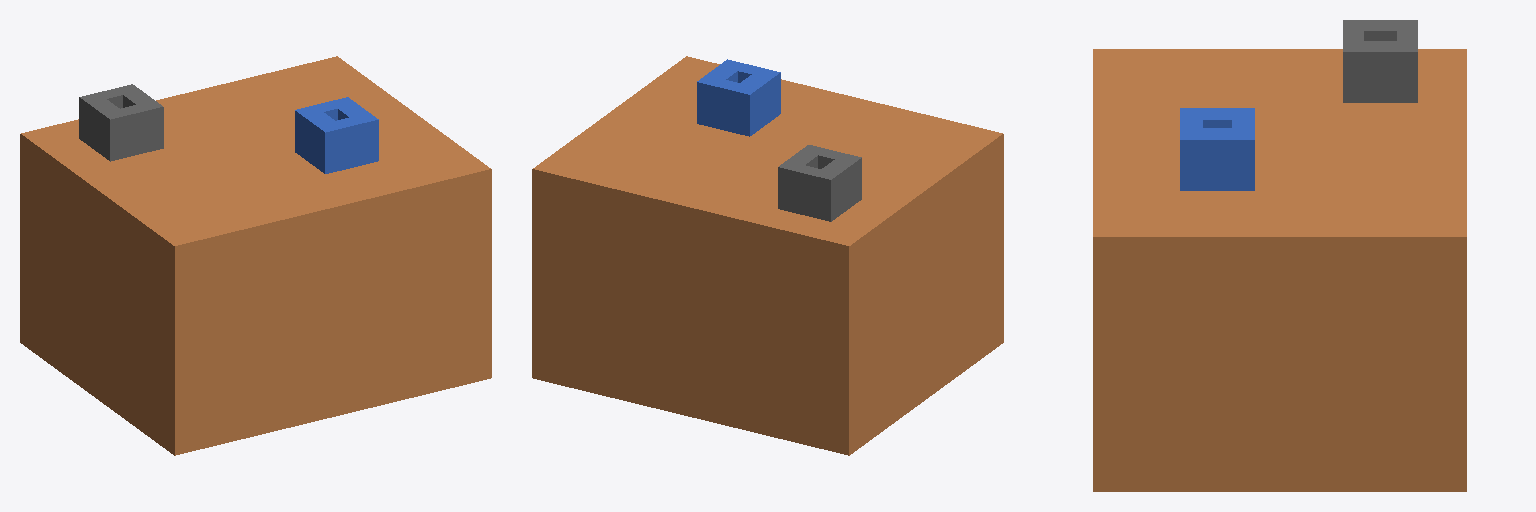
The robot description file, URDF, robot "peg_in_hole_fixtured_scene_0007_peg0007_tol02":
<?xml version="1.0"?>
<robot name="peg_in_hole_fixtured_scene_0007_peg0007_tol02">
  <material name="wood"><color rgba="0.82 0.56 0.35 1.0"/></material>
  <material name="start_fix"><color rgba="0.30 0.50 0.85 1.0"/></material>
  <material name="goal_fix"><color rgba="0.4706 0.4706 0.4706 1.0"/></material>
  <link name="box">
    <visual>
      <origin xyz="0.000000 0.000000 0.000000" rpy="0 0 0"/>
      <geometry><box size="0.475000 0.400000 0.300000"/></geometry>
      <material name="wood"/>
    </visual>
    <collision>
      <origin xyz="0.000000 0.000000 0.000000" rpy="0 0 0"/>
      <geometry><box size="0.475000 0.400000 0.300000"/></geometry>
    </collision>
    <visual>
      <origin xyz="0.082396 -0.066690 0.155000" rpy="0 0 0"/>
      <geometry><box size="0.080000 0.080000 0.010000"/></geometry>
      <material name="start_fix"/>
    </visual>
    <collision>
      <origin xyz="0.082396 -0.066690 0.155000" rpy="0 0 0"/>
      <geometry><box size="0.080000 0.080000 0.010000"/></geometry>
    </collision>
    <visual>
      <origin xyz="0.107646 -0.066690 0.185000" rpy="0 0 0"/>
      <geometry><box size="0.029500 0.080000 0.050000"/></geometry>
      <material name="start_fix"/>
    </visual>
    <collision>
      <origin xyz="0.107646 -0.066690 0.185000" rpy="0 0 0"/>
      <geometry><box size="0.029500 0.080000 0.050000"/></geometry>
    </collision>
    <visual>
      <origin xyz="0.057146 -0.066690 0.185000" rpy="0 0 0"/>
      <geometry><box size="0.029500 0.080000 0.050000"/></geometry>
      <material name="start_fix"/>
    </visual>
    <collision>
      <origin xyz="0.057146 -0.066690 0.185000" rpy="0 0 0"/>
      <geometry><box size="0.029500 0.080000 0.050000"/></geometry>
    </collision>
    <visual>
      <origin xyz="0.082396 -0.038940 0.185000" rpy="0 0 0"/>
      <geometry><box size="0.021000 0.024500 0.050000"/></geometry>
      <material name="start_fix"/>
    </visual>
    <collision>
      <origin xyz="0.082396 -0.038940 0.185000" rpy="0 0 0"/>
      <geometry><box size="0.021000 0.024500 0.050000"/></geometry>
    </collision>
    <visual>
      <origin xyz="0.082396 -0.094440 0.185000" rpy="0 0 0"/>
      <geometry><box size="0.021000 0.024500 0.050000"/></geometry>
      <material name="start_fix"/>
    </visual>
    <collision>
      <origin xyz="0.082396 -0.094440 0.185000" rpy="0 0 0"/>
      <geometry><box size="0.021000 0.024500 0.050000"/></geometry>
    </collision>
    <visual>
      <origin xyz="-0.139678 0.107147 0.155000" rpy="0 0 0"/>
      <geometry><box size="0.080000 0.080000 0.010000"/></geometry>
      <material name="goal_fix"/>
    </visual>
    <collision>
      <origin xyz="-0.139678 0.107147 0.155000" rpy="0 0 0"/>
      <geometry><box size="0.080000 0.080000 0.010000"/></geometry>
    </collision>
    <visual>
      <origin xyz="-0.113487 0.107147 0.185000" rpy="0 0 0"/>
      <geometry><box size="0.027618 0.080000 0.050000"/></geometry>
      <material name="goal_fix"/>
    </visual>
    <collision>
      <origin xyz="-0.113487 0.107147 0.185000" rpy="0 0 0"/>
      <geometry><box size="0.027618 0.080000 0.050000"/></geometry>
    </collision>
    <visual>
      <origin xyz="-0.165869 0.107147 0.185000" rpy="0 0 0"/>
      <geometry><box size="0.027618 0.080000 0.050000"/></geometry>
      <material name="goal_fix"/>
    </visual>
    <collision>
      <origin xyz="-0.165869 0.107147 0.185000" rpy="0 0 0"/>
      <geometry><box size="0.027618 0.080000 0.050000"/></geometry>
    </collision>
    <visual>
      <origin xyz="-0.139678 0.135838 0.185000" rpy="0 0 0"/>
      <geometry><box size="0.024763 0.022618 0.050000"/></geometry>
      <material name="goal_fix"/>
    </visual>
    <collision>
      <origin xyz="-0.139678 0.135838 0.185000" rpy="0 0 0"/>
      <geometry><box size="0.024763 0.022618 0.050000"/></geometry>
    </collision>
    <visual>
      <origin xyz="-0.139678 0.078456 0.185000" rpy="0 0 0"/>
      <geometry><box size="0.024763 0.022618 0.050000"/></geometry>
      <material name="goal_fix"/>
    </visual>
    <collision>
      <origin xyz="-0.139678 0.078456 0.185000" rpy="0 0 0"/>
      <geometry><box size="0.024763 0.022618 0.050000"/></geometry>
    </collision>
    <inertial>
      <mass value="500"/>
      <friction value="1.0"/>
      <inertia ixx="1000.0" ixy="0.0" ixz="0.0" iyy="1000.0" iyz="0.0" izz="1000.0"/>
    </inertial>
  </link>
</robot>

--- What the picture shows (computed from the rendered views, not written in the file) ---
Views: 3 orthographic renders of the robot side by side, from view 1: azimuth 30°, elevation 25°; view 2: azimuth 150°, elevation 25°; view 3: azimuth 270°, elevation 25°.
Model peg_in_hole_fixtured_scene_0007_peg0007_tol02 with 1 links and 0 joints (none), rooted at box, posed every joint at zero.
Links seen in each view (by area): view 1: box; view 2: box; view 3: box.
Boxes of the visible links, <box> form: box: <box>20,56,491,455</box>; box: <box>532,56,1003,455</box>; box: <box>1093,20,1466,491</box>.
Size in the robot's own frame: 0.475 by 0.4 by 0.36 metres.
Geometry: primitives only (box / cylinder / sphere), no mesh files.
